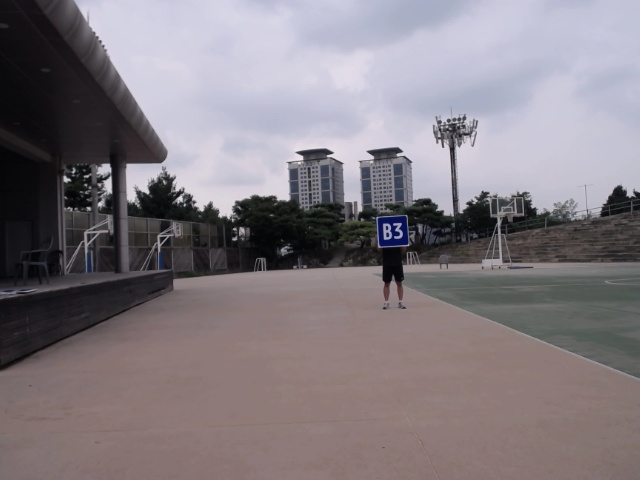delivery_b3: (376, 215, 410, 248)
